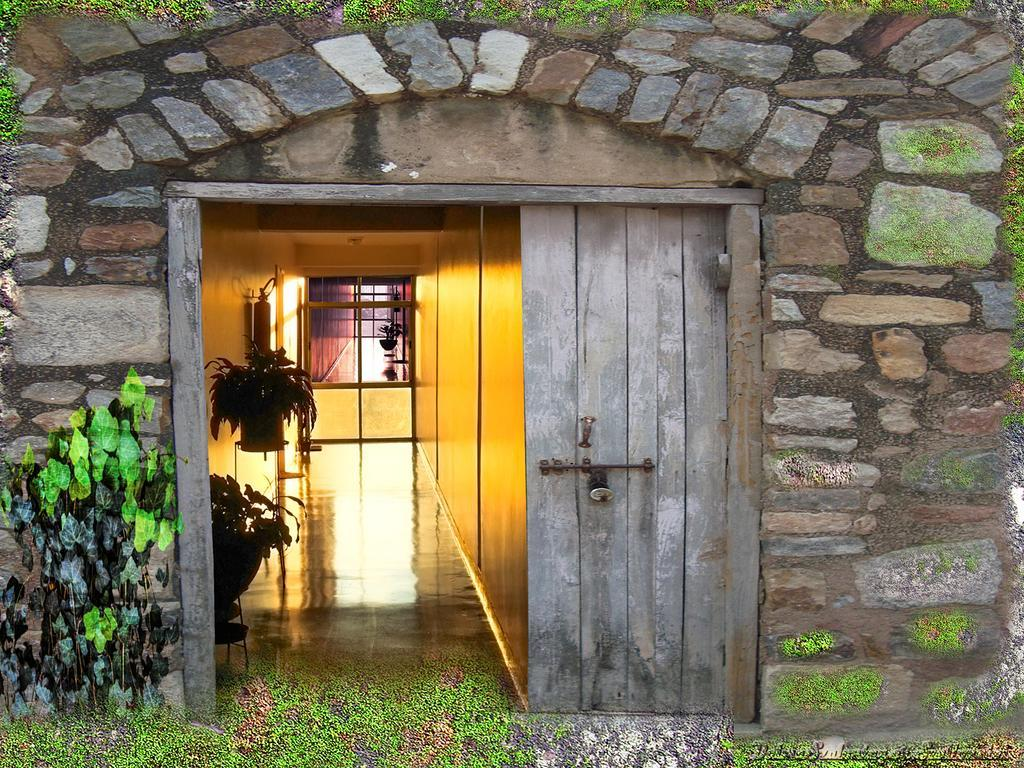door: (528, 218, 717, 700)
handle: (546, 463, 664, 481)
